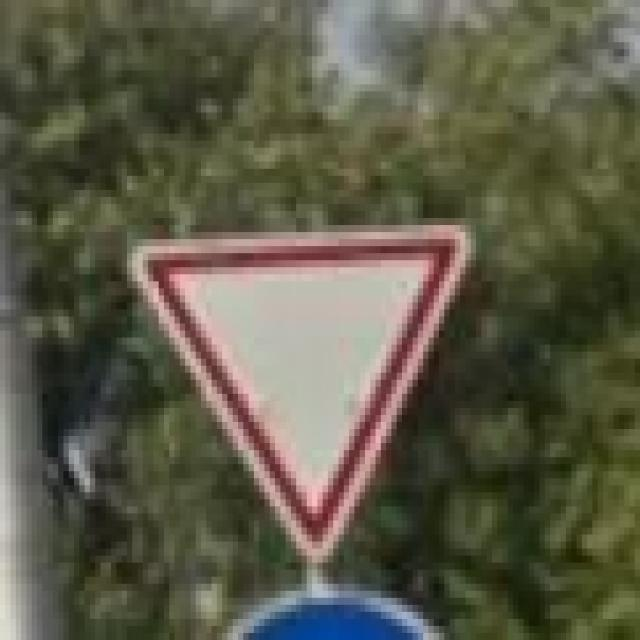traffic_sign: (127, 225, 471, 570)
